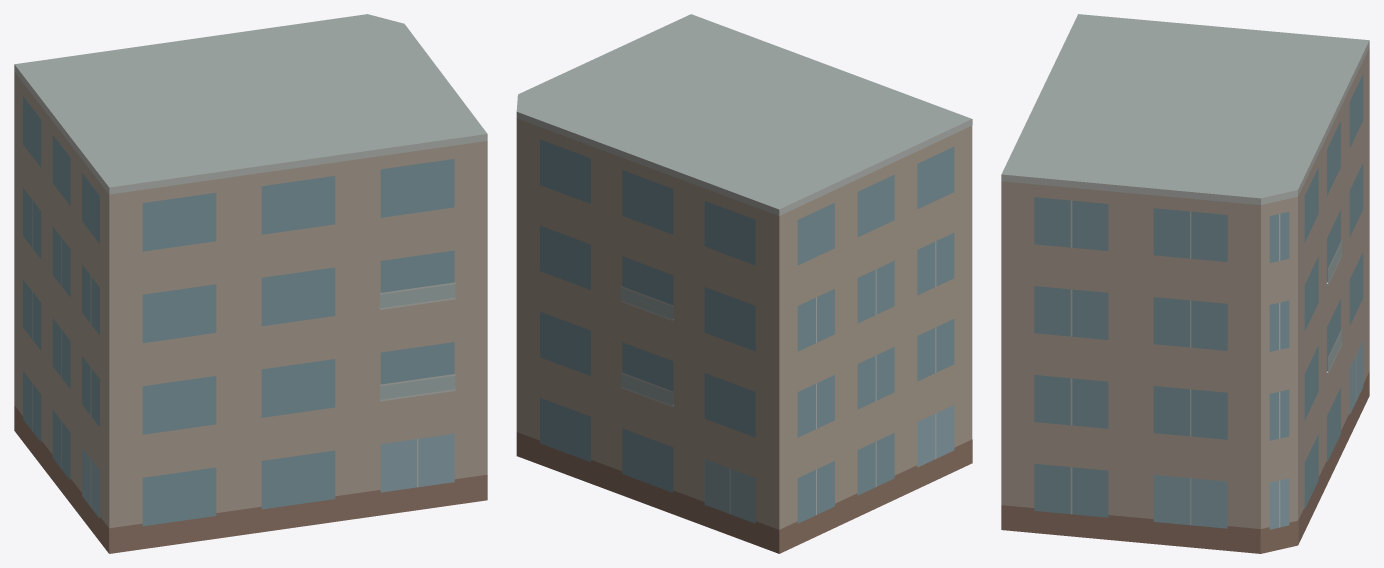
The model's file is survey-upis-32669781.glb.
The picture shows the model from 3 angles, left to right: view 1: azimuth 30°, elevation 25°; view 2: azimuth 150°, elevation 25°; view 3: azimuth 270°, elevation 25°; orthographic projection. The views are drawn at different scales.
Parts seen in each view (by area): view 1: survey-upis-32669781.tmp; view 2: survey-upis-32669781.tmp; view 3: survey-upis-32669781.tmp.
Part boxes in pixels (x1,y1,x2,y2): survey-upis-32669781.tmp: (14,14,487,553); survey-upis-32669781.tmp: (516,14,972,553); survey-upis-32669781.tmp: (1001,14,1369,553).
Bounding box in the file's own units: 14.25 × 12.8 × 12.03.
